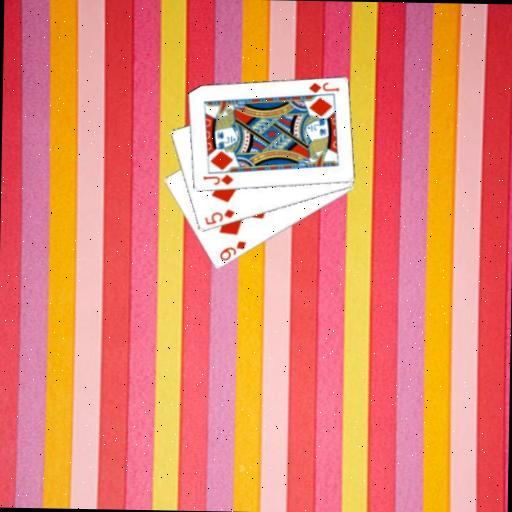5D: (201, 206, 236, 227)
9D: (216, 237, 248, 263)
JD: (305, 79, 340, 95), (201, 171, 235, 187)
